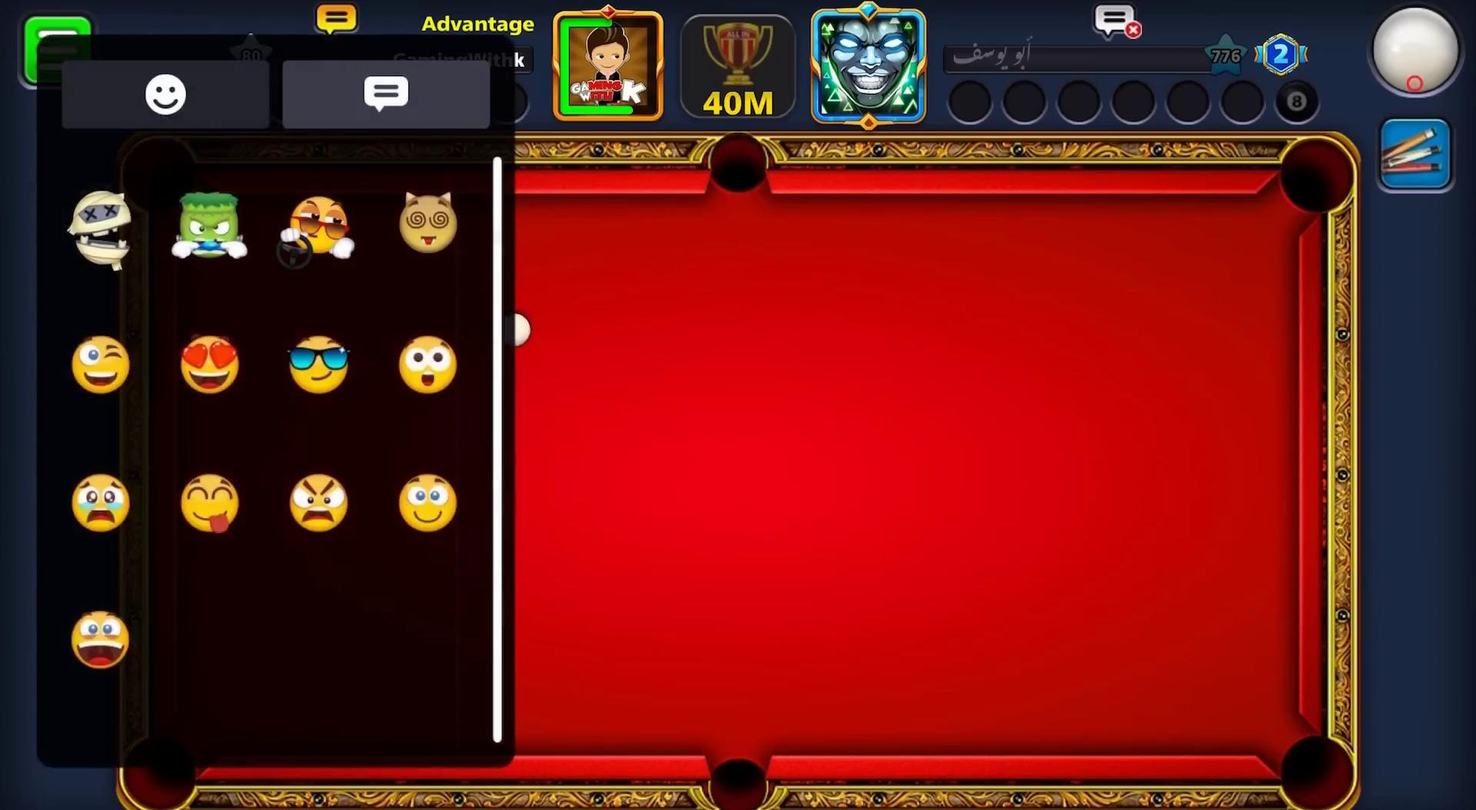Hole: (1267, 122, 1363, 231), (110, 720, 212, 810), (1278, 734, 1355, 809), (705, 134, 771, 197), (705, 755, 770, 809)
Spin: (1361, 0, 1475, 111)
White: (501, 301, 541, 358)
